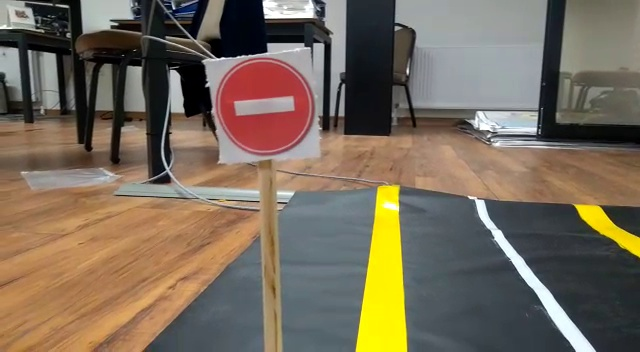girisi_olmayan_yol: (212, 52, 316, 157)
